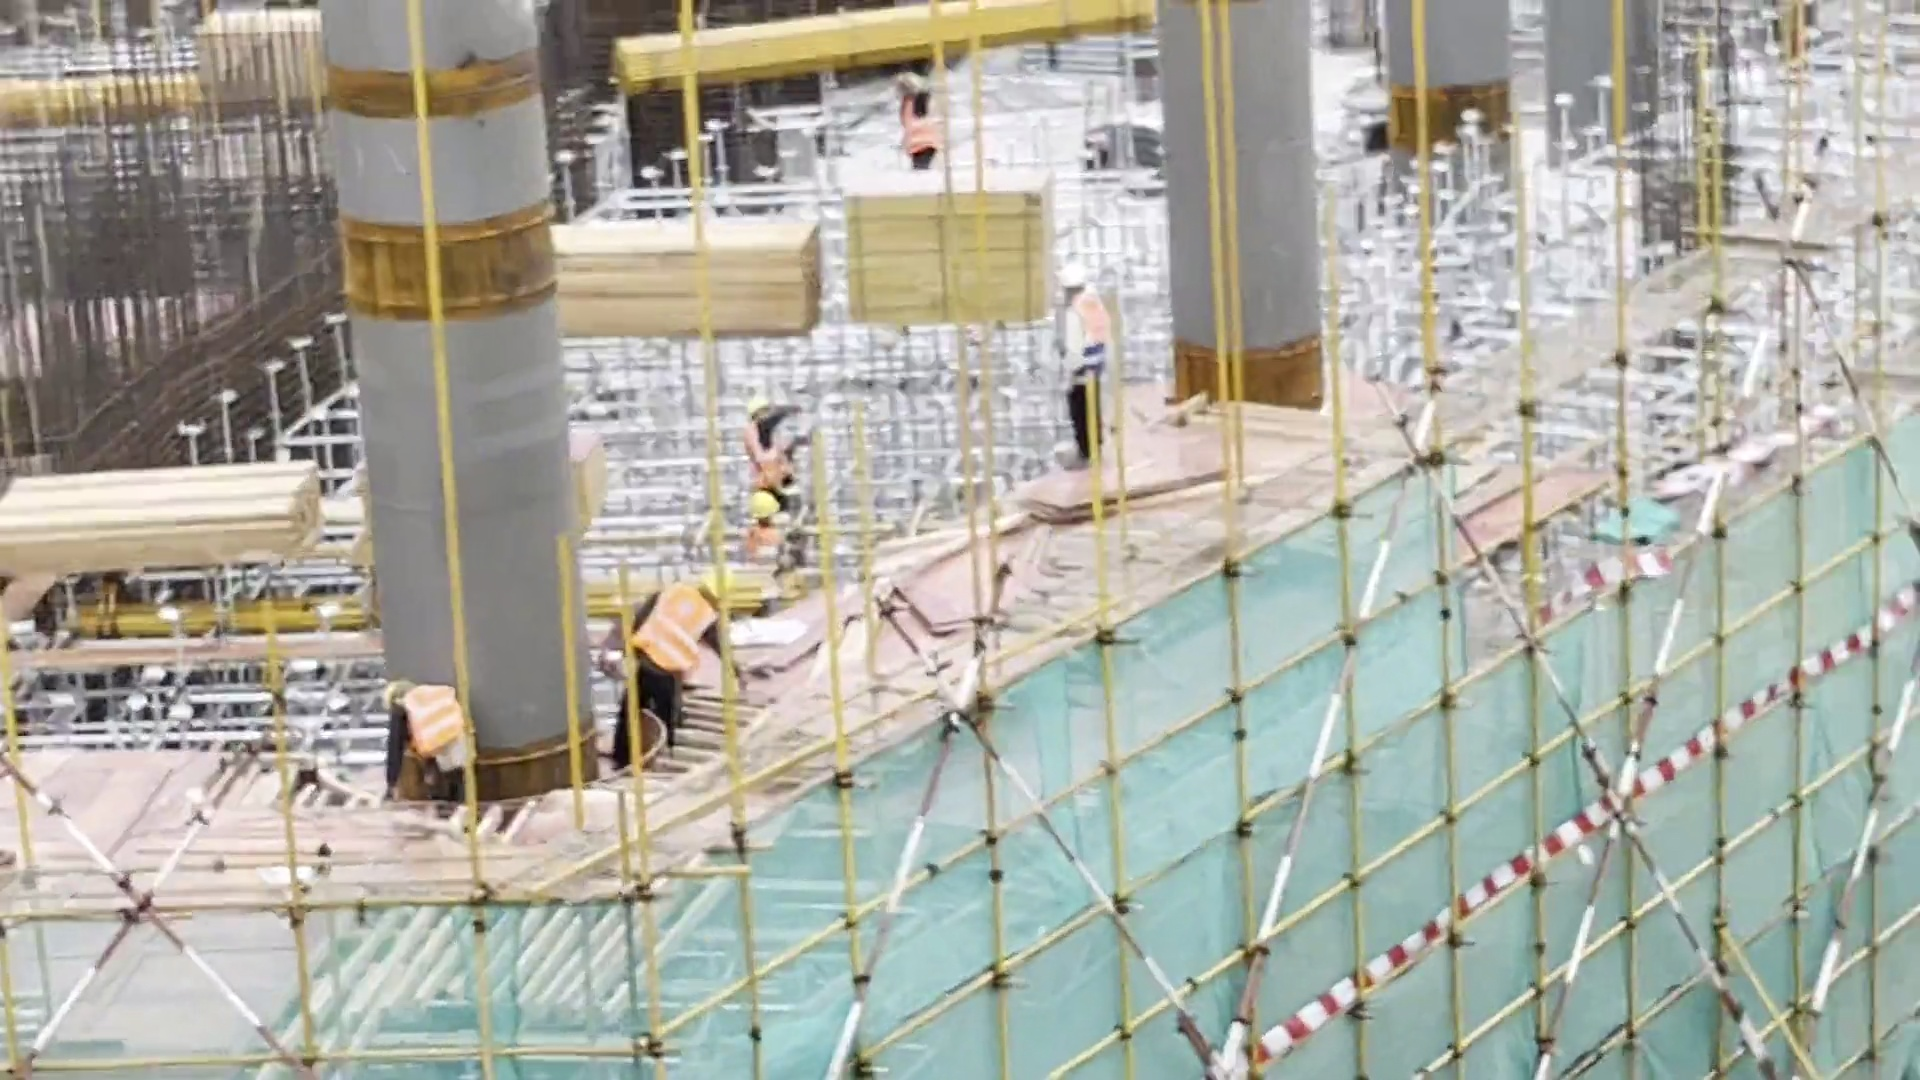helmet: (1059, 261, 1095, 300), (745, 485, 789, 517), (746, 389, 774, 421)
person: (613, 568, 746, 760), (1046, 256, 1115, 466), (375, 668, 470, 810), (873, 50, 961, 168), (749, 381, 804, 510), (738, 482, 799, 560)
vest: (628, 584, 722, 680), (399, 679, 472, 759), (1063, 296, 1120, 391), (746, 421, 800, 486), (896, 98, 947, 156), (750, 527, 794, 571)
